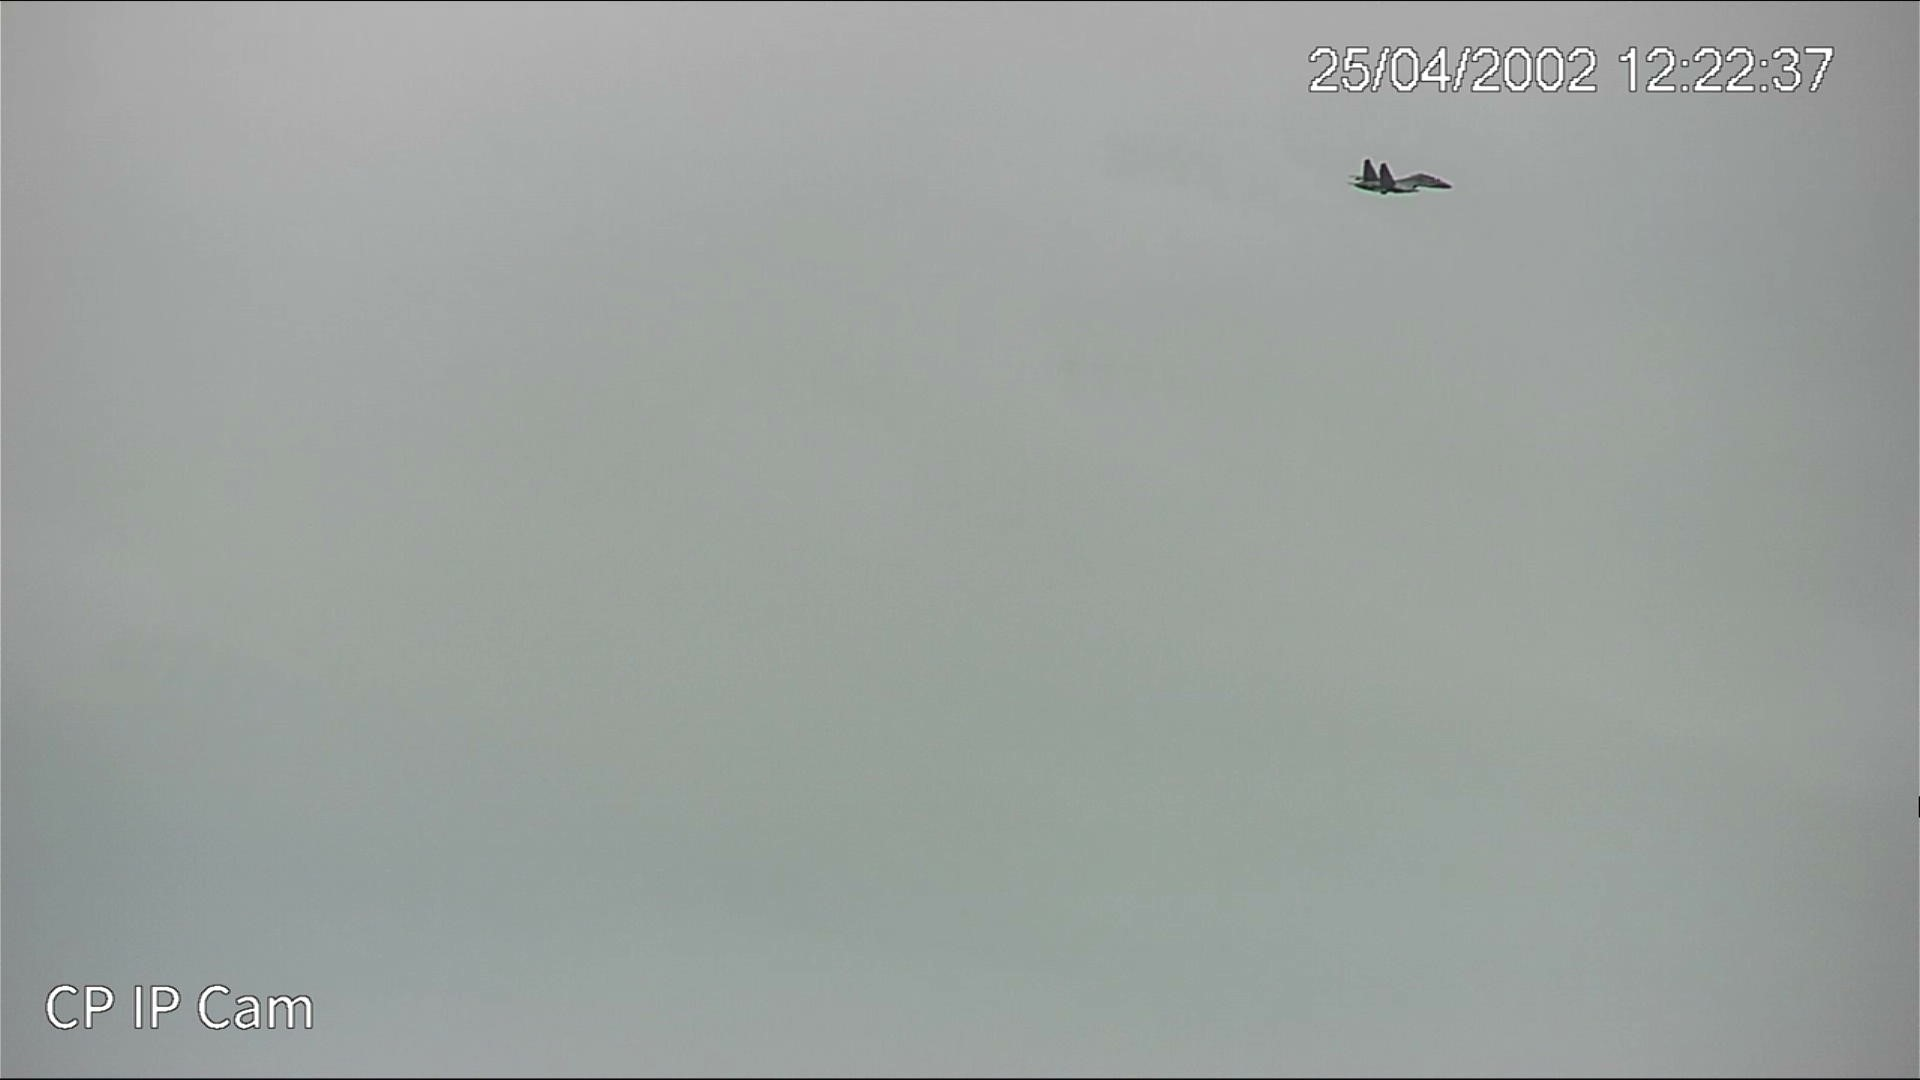SU_30: (1344, 156, 1455, 196)
